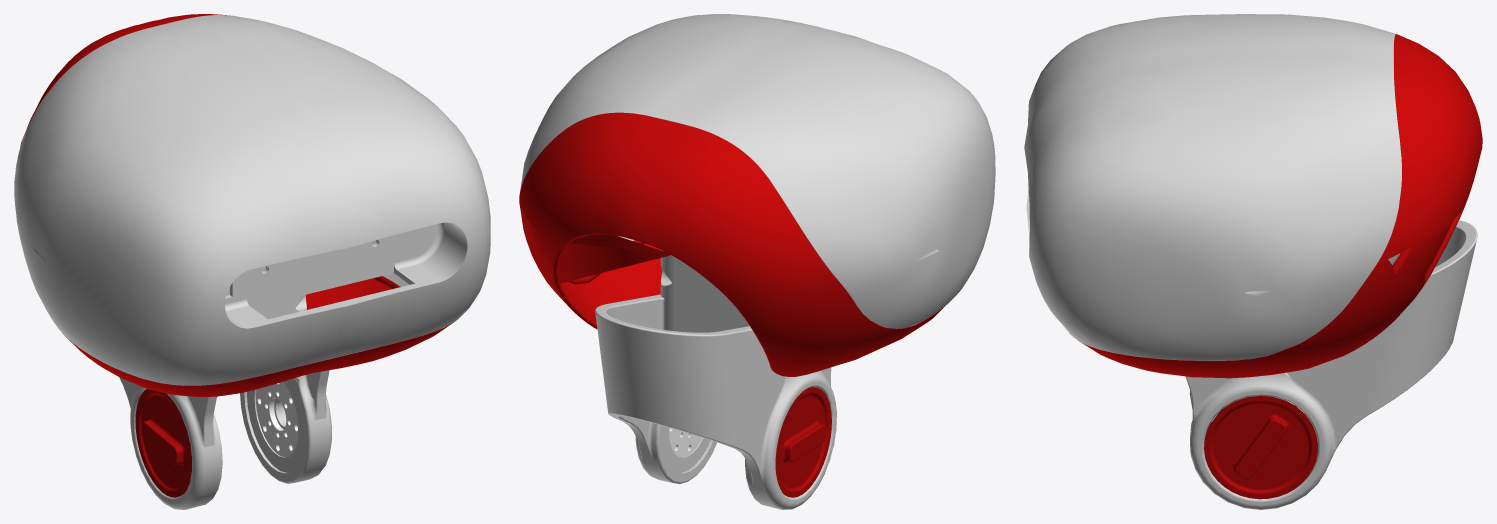
Rendered from Sciurus17_h2.gltf.
3 views of the same model, side by side, from view 1: azimuth 30°, elevation 25°; view 2: azimuth 150°, elevation 25°; view 3: azimuth 270°, elevation 25° (orthographic).
Visible parts, largest first — view 1: 頭部H_A20180711B; view 2: 頭部H_A20180711B; view 3: 頭部H_A20180711B.
Part boxes in pixels (<box>): 頭部H_A20180711B: <box>14,14,490,509</box>; 頭部H_A20180711B: <box>519,14,995,509</box>; 頭部H_A20180711B: <box>1024,14,1482,509</box>.
Bounding box in the file's own units: 0.1589 × 0.1657 × 0.1608.
